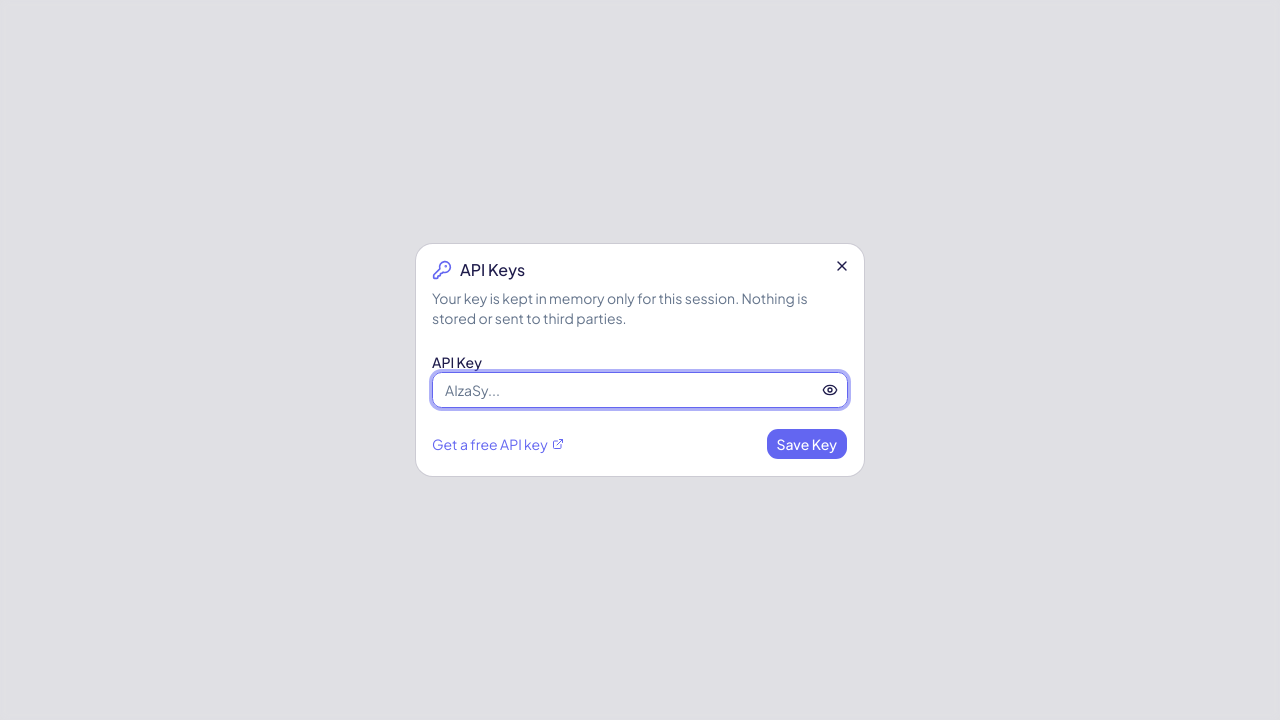
Test: ApiKeyDialog › shows error for empty key submission
The image size is (1280, 720).
Step 1. Click the button "Save Key" → (807, 444), box [766,428,848,460]
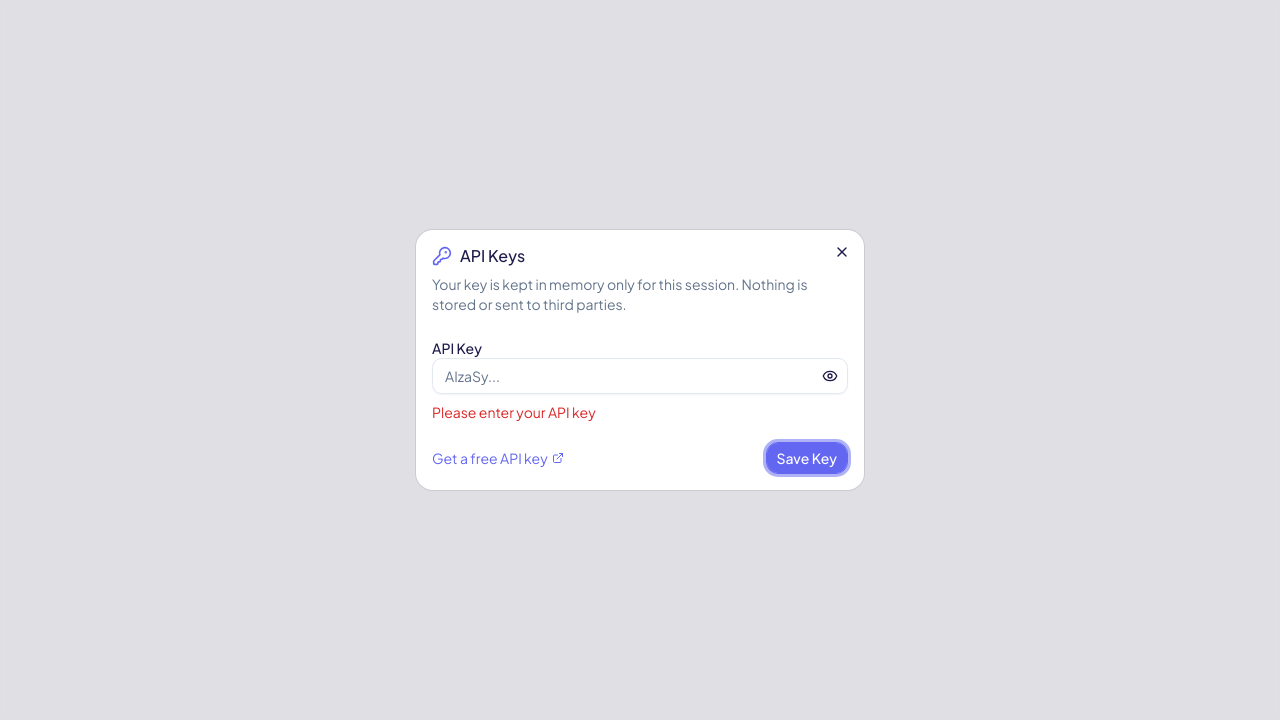
expect the message reads "Please enter your API key": met, box [432,403,596,421]
